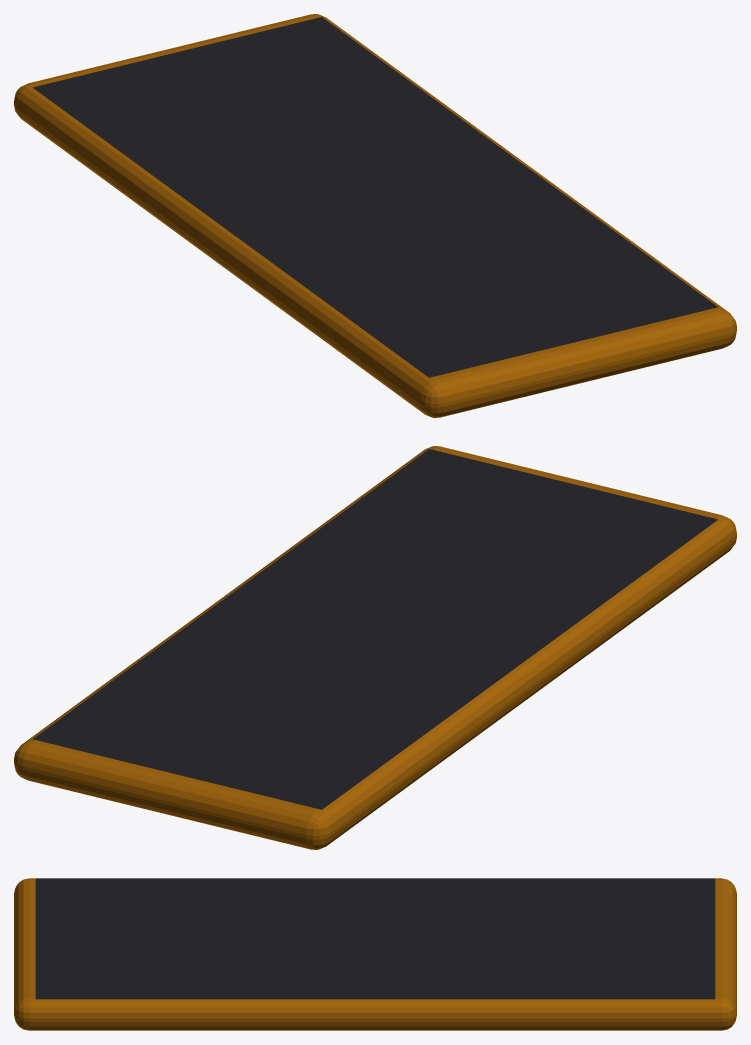
Rendered from vivo-x-model-34-budget-2026.glb.
The picture shows the model from 3 angles, top to bottom: view 1: azimuth 30°, elevation 25°; view 2: azimuth 150°, elevation 25°; view 3: azimuth 270°, elevation 25°; orthographic projection. The views are drawn at different scales.
Visible parts, largest first — view 1: Phone_Screen, Phone_Body; view 2: Phone_Screen, Phone_Body; view 3: Phone_Screen, Phone_Body.
Part boxes in pixels (box(x1,y1,x2,y2)): Phone_Screen: box(33, 17, 717, 377); Phone_Body: box(14, 14, 736, 417); Phone_Screen: box(33, 449, 717, 809); Phone_Body: box(14, 446, 736, 849); Phone_Screen: box(35, 878, 715, 999); Phone_Body: box(14, 878, 736, 1030).
Size of the model in its own units: 0.0726 by 0.0081 by 0.1687.
